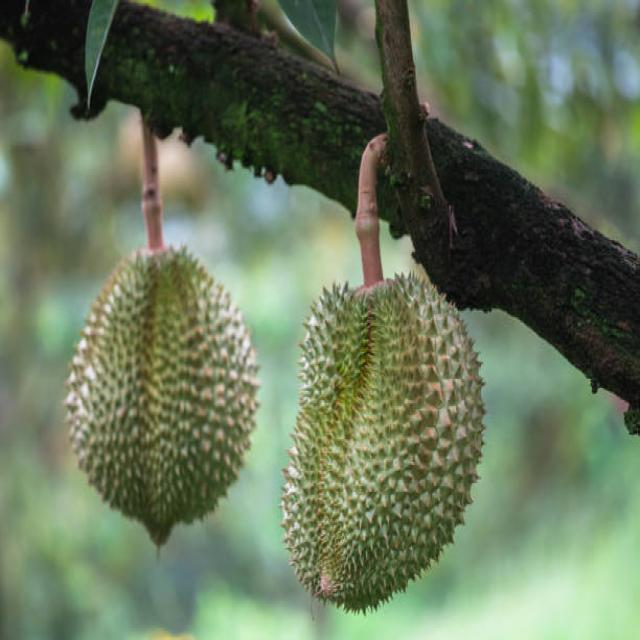mature: (281, 274, 484, 611), (65, 247, 258, 545)
